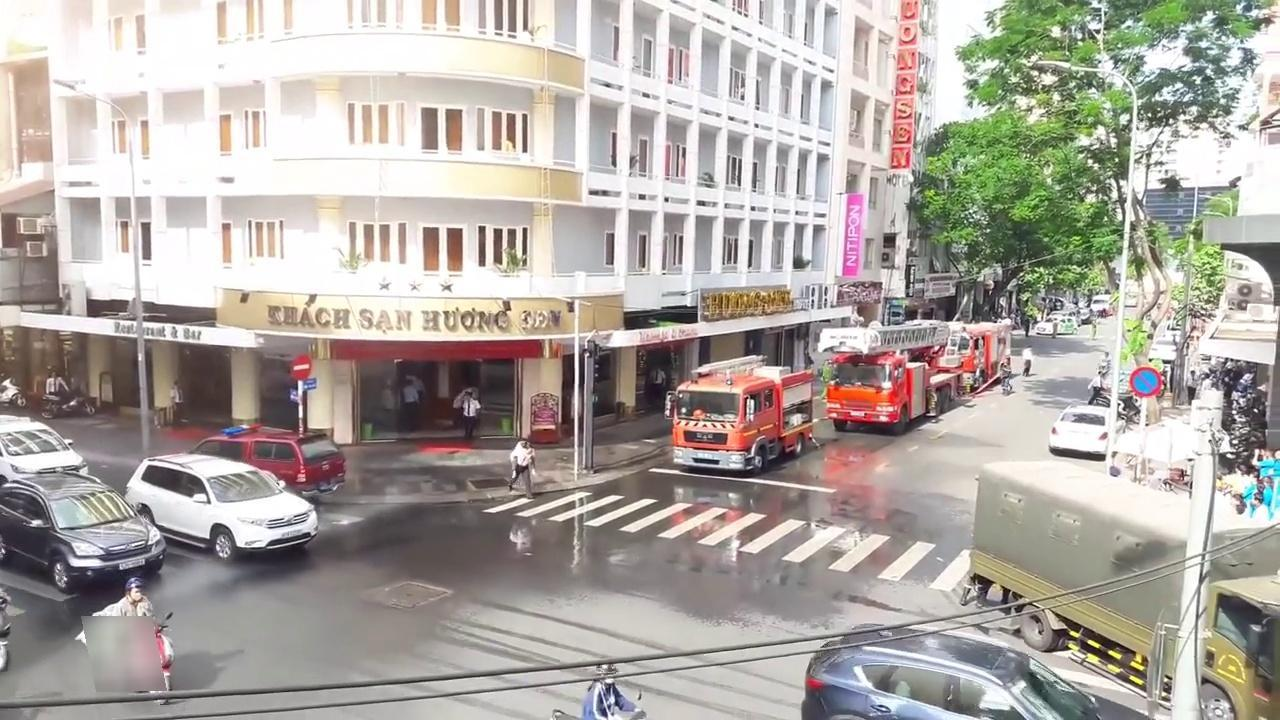xe cuu hoa: (668, 355, 817, 471), (822, 327, 966, 431), (930, 319, 1011, 395)
xe hoi: (799, 625, 1150, 720), (125, 452, 318, 562), (0, 470, 174, 590), (0, 413, 89, 478), (1048, 401, 1126, 459), (618, 452, 624, 456)
xe may: (75, 577, 184, 706), (552, 658, 649, 719)
xe tai: (969, 458, 1279, 719)
